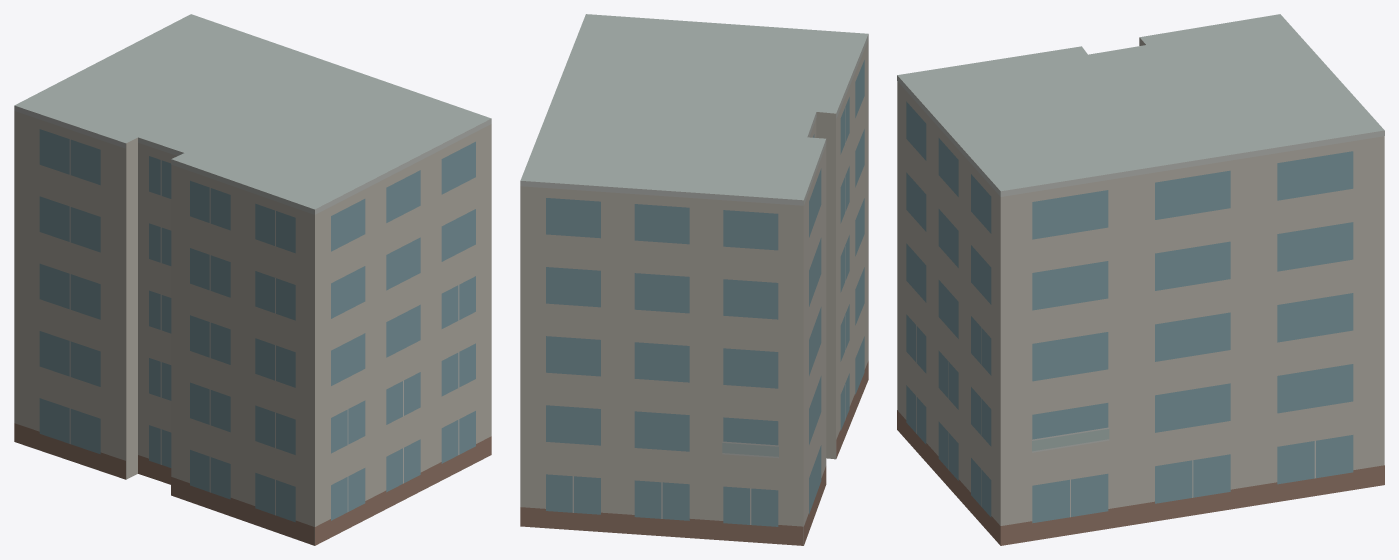
The model's file is survey-upis-32546382.glb.
The picture shows the model from 3 angles, left to right: view 1: azimuth 30°, elevation 25°; view 2: azimuth 150°, elevation 25°; view 3: azimuth 270°, elevation 25°; orthographic projection. The views are drawn at different scales.
Parts seen in each view (by area): view 1: survey-upis-32546382.tmp; view 2: survey-upis-32546382.tmp; view 3: survey-upis-32546382.tmp.
Boxes of the visible parts, bbox=[...] form: survey-upis-32546382.tmp: bbox=[14, 14, 491, 545]; survey-upis-32546382.tmp: bbox=[520, 14, 868, 545]; survey-upis-32546382.tmp: bbox=[897, 14, 1384, 545].
Size of the model in its own units: 16.37 by 15.25 by 19.02.
